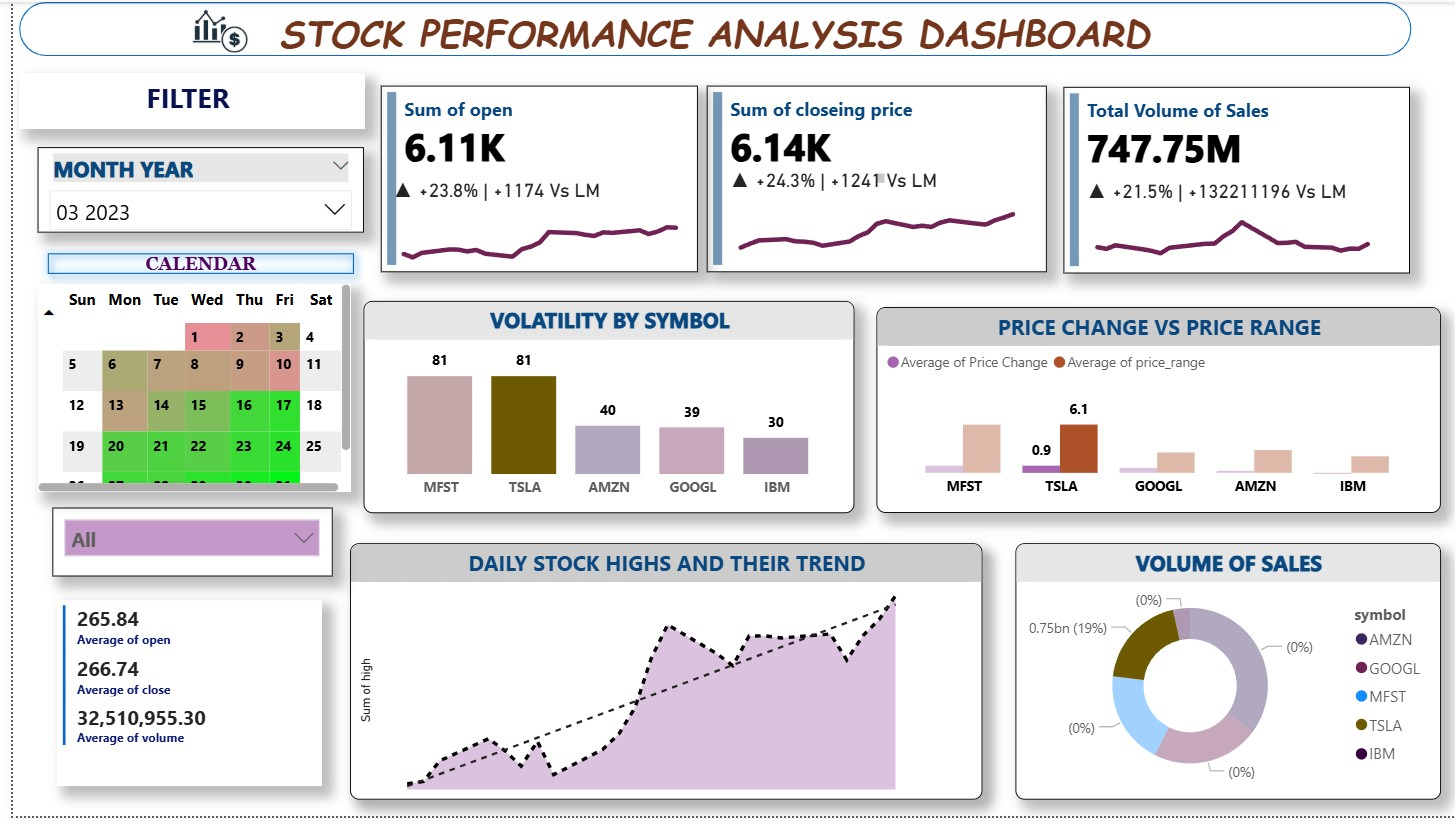

What the dashboard file says about the page in this screenshot:
{"tool":"powerbi","page":{"name":"Page 1","canvas":[1280,720],"ordinal":0},"visuals":[{"type":"textbox","box":[0,146.9,775.8,18.2],"z":0},{"type":"pivotTable","fields":{"Rows":["Date Table.Week number"],"Columns":["Date Table.Day"],"Values":["Min(Date Table.Day number)"]},"box":[21.5,249.3,277.3,184.9],"z":1000},{"type":"slicer","fields":{"Values":["Date Table.Month year"]},"box":[21.5,128.8,288.9,75.9],"z":2000},{"type":"cardVisual","fields":{"Data":["Sum(stock_data1.close)"]},"box":[614,74.3,300.4,165.1],"z":3000},{"type":"lineChart","fields":{"Category":["stock_data1.date"],"Y":["Sum(stock_data1.close)"]},"box":[628.9,146.9,270.7,80.9],"z":4000},{"type":"cardVisual","fields":{"Data":["Sum(stock_data1.open)"]},"box":[325.2,74.3,280.6,165.1],"z":5000},{"type":"lineChart","fields":{"Category":["stock_data1.date"],"Y":["Sum(stock_data1.open)"]},"box":[330.7,155.6,270.7,81],"z":6000},{"type":"cardVisual","fields":{"Data":["Sum(stock_data1.volume)"]},"box":[928.8,74.6,306.4,165.3],"z":7000},{"type":"lineChart","fields":{"Category":["stock_data1.date"],"Y":["Sum(stock_data1.volume)"]},"box":[944.2,156.8,269.1,80.9],"z":8000},{"type":"clusteredColumnChart","title":"PRICE CHANGE VS PRICE RANGE","fields":{"Y":["Avg(stock_data1.Price Change)","Avg(stock_data1.price_range)"],"Category":["stock_data1.symbol"]},"box":[763.7,269.5,499,182.4],"z":9000},{"type":"clusteredColumnChart","title":" VOLATILITY BY SYMBOL","fields":{"Y":["Sum(stock_data1.volatility)"],"Category":["stock_data1.symbol"]},"box":[310.3,264.1,434.1,188.2],"z":10000},{"type":"donutChart","title":"VOLUME OF SALES","fields":{"Category":["stock_data1.symbol"],"Y":["Sum(stock_data1.volume)"]},"box":[886.7,478.2,376.1,226.9],"z":11000},{"type":"areaChart","title":"DAILY STOCK HIGHS AND THEIR TREND","fields":{"Category":["Date Table.Date.Variation.Date Hierarchy.Year","Date Table.Date.Variation.Date Hierarchy.Quarter","Date Table.Date.Variation.Date Hierarchy.Month","Date Table.Date.Variation.Date Hierarchy.Day"],"Y":["Sum(stock_data1.high)"]},"box":[298.3,478.2,559.2,226.9],"z":12000},{"type":"slicer","fields":{"Values":["stock_data1.symbol"]},"box":[34.7,447.3,247.6,61.1],"z":13000},{"type":"textbox","box":[5,62.7,305.4,49.5],"z":14000},{"type":"multiRowCard","fields":{"Values":["Avg(stock_data1.open)","Avg(stock_data1.close)","Avg(stock_data1.volume)"]},"box":[39.6,528.2,234.4,165.1],"z":15000},{"type":"shape","box":[21.5,212.9,288.9,36.3],"z":17000},{"type":"shape","box":[5,0,1231.4,47.9],"z":18000},{"type":"textbox","box":[100.7,0,1053.1,62.7],"z":19000},{"type":"image","box":[145.3,0,75.9,49.5],"z":20000}]}

Visuals, with their boxes in screenshot pixels (x1, y1, x2, y2), scaled from the page's 1280x720 canvas onto the 1455x823 screenshot:
textbox: {"x1": 0, "y1": 168, "x2": 882, "y2": 189}
pivotTable - Date Table.Week number x Date Table.Day: {"x1": 24, "y1": 285, "x2": 340, "y2": 496}
slicer - Date Table.Month year: {"x1": 24, "y1": 147, "x2": 353, "y2": 234}
cardVisual - Sum(stock_data1.close): {"x1": 698, "y1": 85, "x2": 1039, "y2": 274}
lineChart - stock_data1.date x Sum(stock_data1.close): {"x1": 715, "y1": 168, "x2": 1023, "y2": 260}
cardVisual - Sum(stock_data1.open): {"x1": 370, "y1": 85, "x2": 689, "y2": 274}
lineChart - stock_data1.date x Sum(stock_data1.open): {"x1": 376, "y1": 178, "x2": 684, "y2": 270}
cardVisual - Sum(stock_data1.volume): {"x1": 1056, "y1": 85, "x2": 1404, "y2": 274}
lineChart - stock_data1.date x Sum(stock_data1.volume): {"x1": 1073, "y1": 179, "x2": 1379, "y2": 272}
"PRICE CHANGE VS PRICE RANGE" clusteredColumnChart: {"x1": 868, "y1": 308, "x2": 1435, "y2": 517}
" VOLATILITY BY SYMBOL" clusteredColumnChart: {"x1": 353, "y1": 302, "x2": 846, "y2": 517}
"VOLUME OF SALES" donutChart: {"x1": 1008, "y1": 547, "x2": 1435, "y2": 806}
"DAILY STOCK HIGHS AND THEIR TREND" areaChart: {"x1": 339, "y1": 547, "x2": 975, "y2": 806}
slicer - stock_data1.symbol: {"x1": 39, "y1": 511, "x2": 321, "y2": 581}
textbox: {"x1": 6, "y1": 72, "x2": 353, "y2": 128}
multiRowCard - Avg(stock_data1.open) x Avg(stock_data1.close): {"x1": 45, "y1": 604, "x2": 311, "y2": 792}
shape: {"x1": 24, "y1": 243, "x2": 353, "y2": 285}
shape: {"x1": 6, "y1": 0, "x2": 1405, "y2": 55}
textbox: {"x1": 114, "y1": 0, "x2": 1312, "y2": 72}
image: {"x1": 165, "y1": 0, "x2": 251, "y2": 57}
